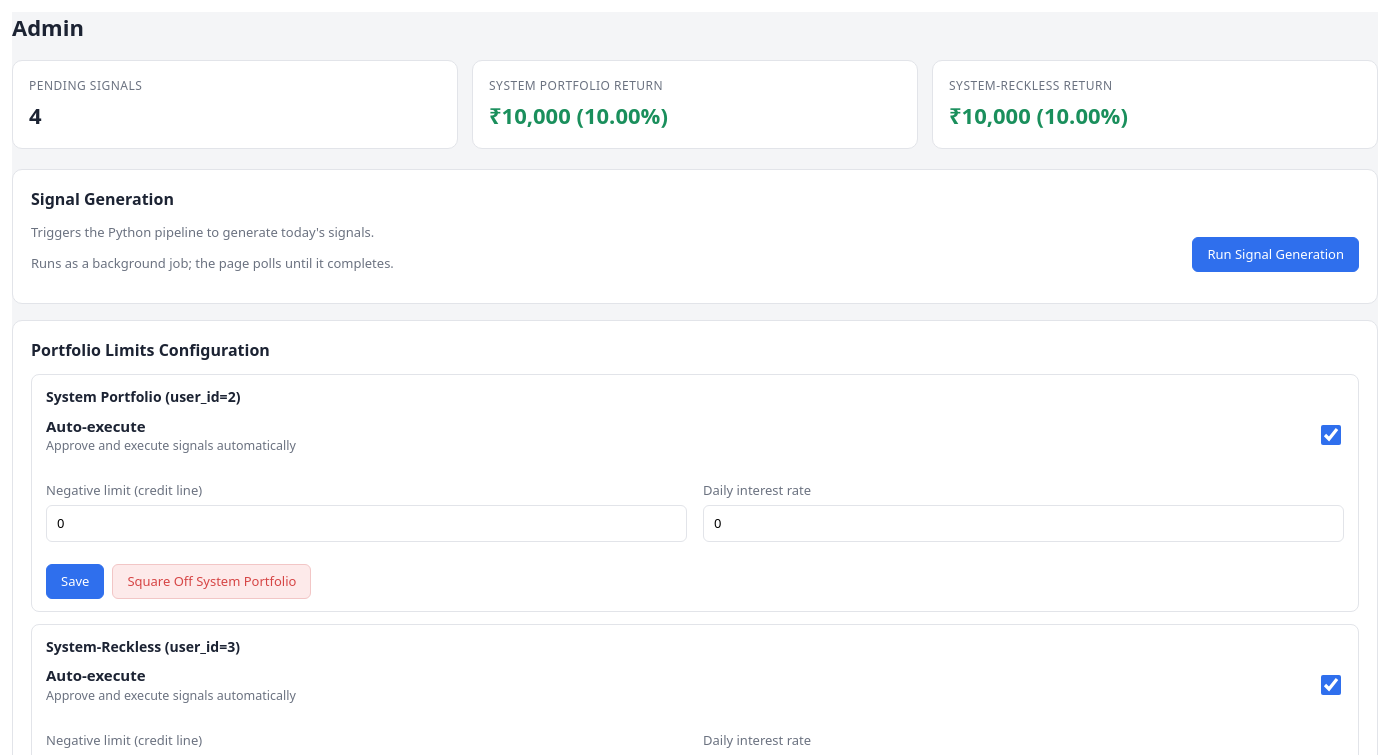
Test: Admin › run signals starts a job, polls to completion, and shows the result toast
Click the button with test id "run-signals" at (1276,254), box 1192,237 -> 1359,272
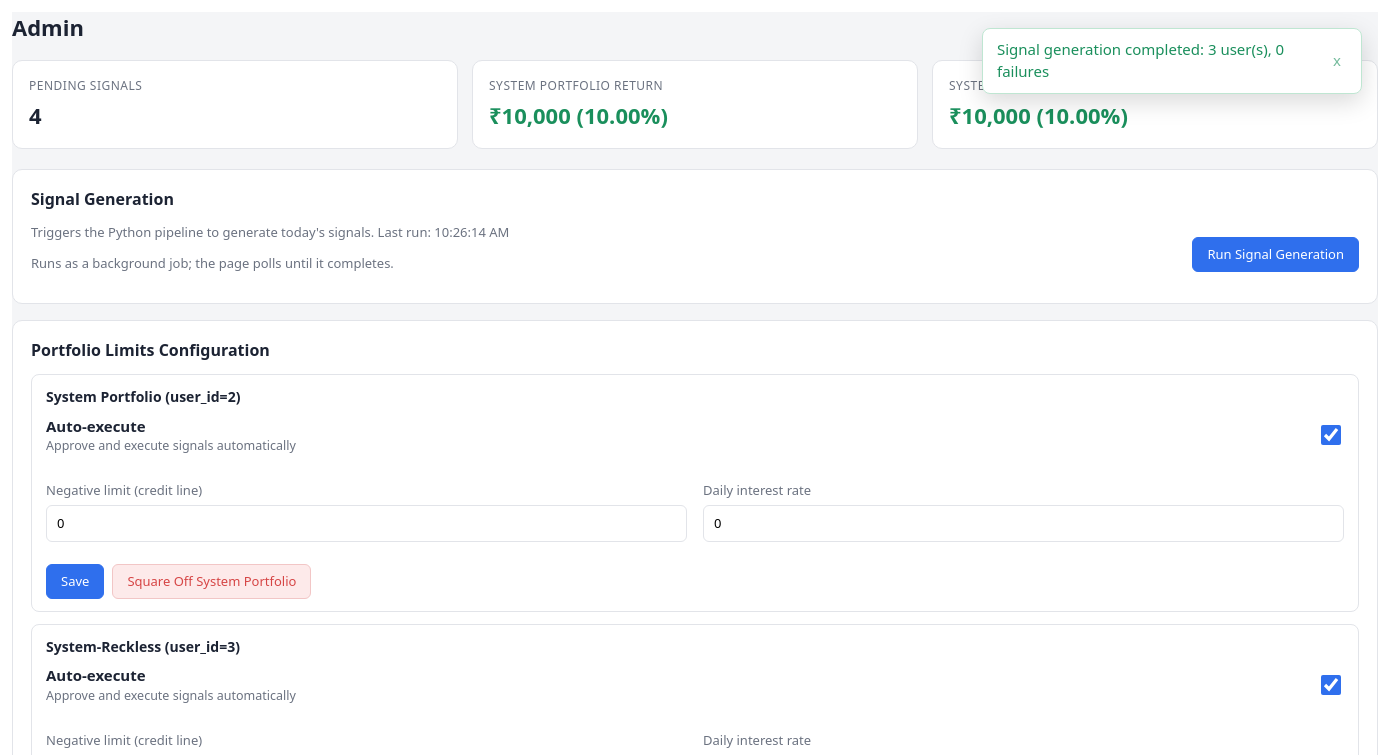
expect the text "Signal generation completed: 3 user(s), 0 failures x" is shown: met, box 982,28 -> 1362,94
